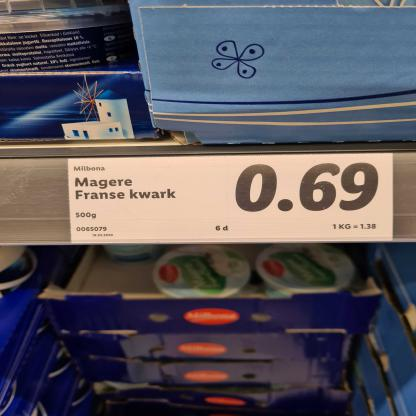prtg: (68, 154, 394, 244)
